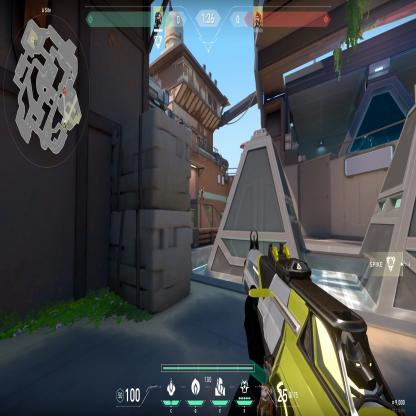enemy: (200, 184, 204, 200)
